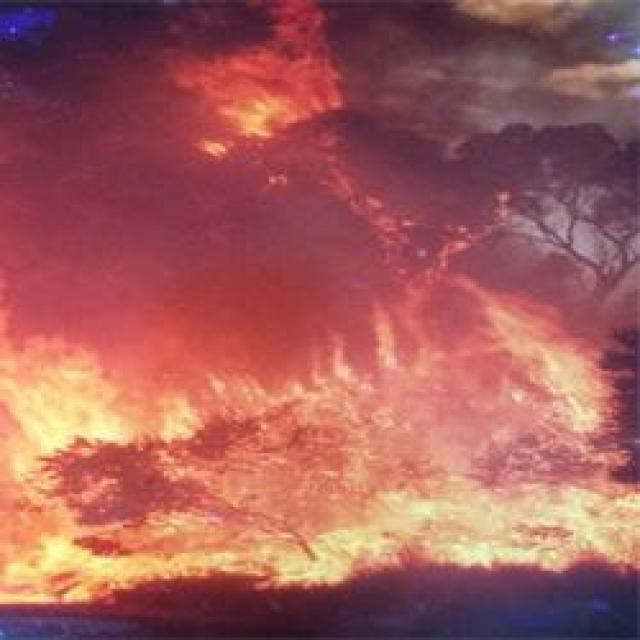fire: (8, 201, 629, 616)
